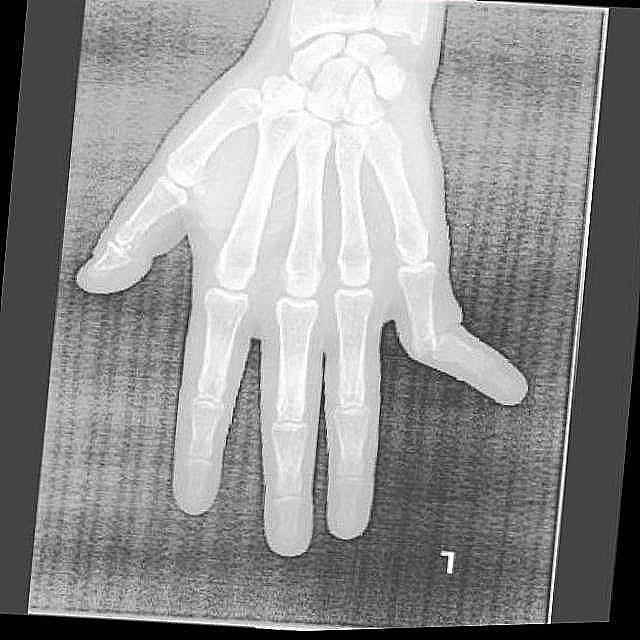bone: (412, 330, 458, 370)
